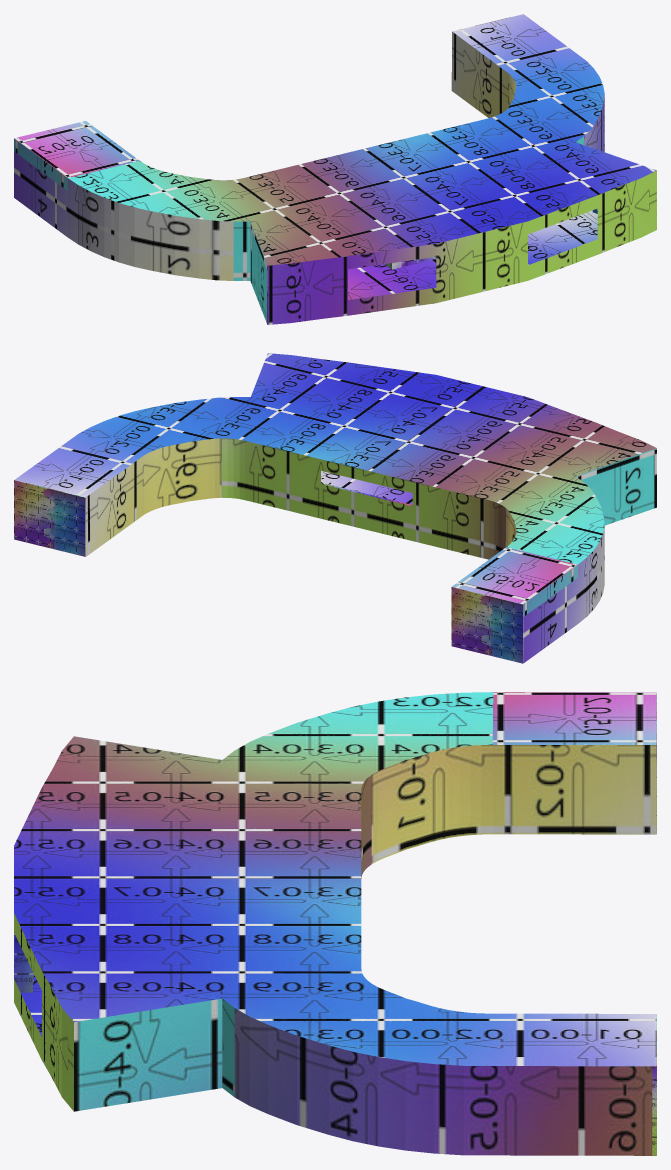
The model's file is hallwayuv.obj.
3 views of the same model, one above another, from view 1: azimuth 30°, elevation 25°; view 2: azimuth 150°, elevation 25°; view 3: azimuth 270°, elevation 25° (orthographic). The views are drawn at different scales.
Parts seen in each view (by area): view 1: polySurface12; view 2: polySurface12, polySurface20, polySurface18; view 3: polySurface12, pPlane2.
Part boxes in pixels (x1=…): polySurface12: x1=14, y1=14, x2=656, y2=324; polySurface12: x1=14, y1=353, x2=656, y2=663; polySurface20: x1=451, y1=587, x2=523, y2=663; polySurface18: x1=14, y1=480, x2=85, y2=556; polySurface12: x1=14, y1=692, x2=656, y2=1155; pPlane2: x1=14, y1=934, x2=33, y2=992.
Size of the model in its own units: 108 by 12.07 by 78.6.
18 materials, 18 textured.
